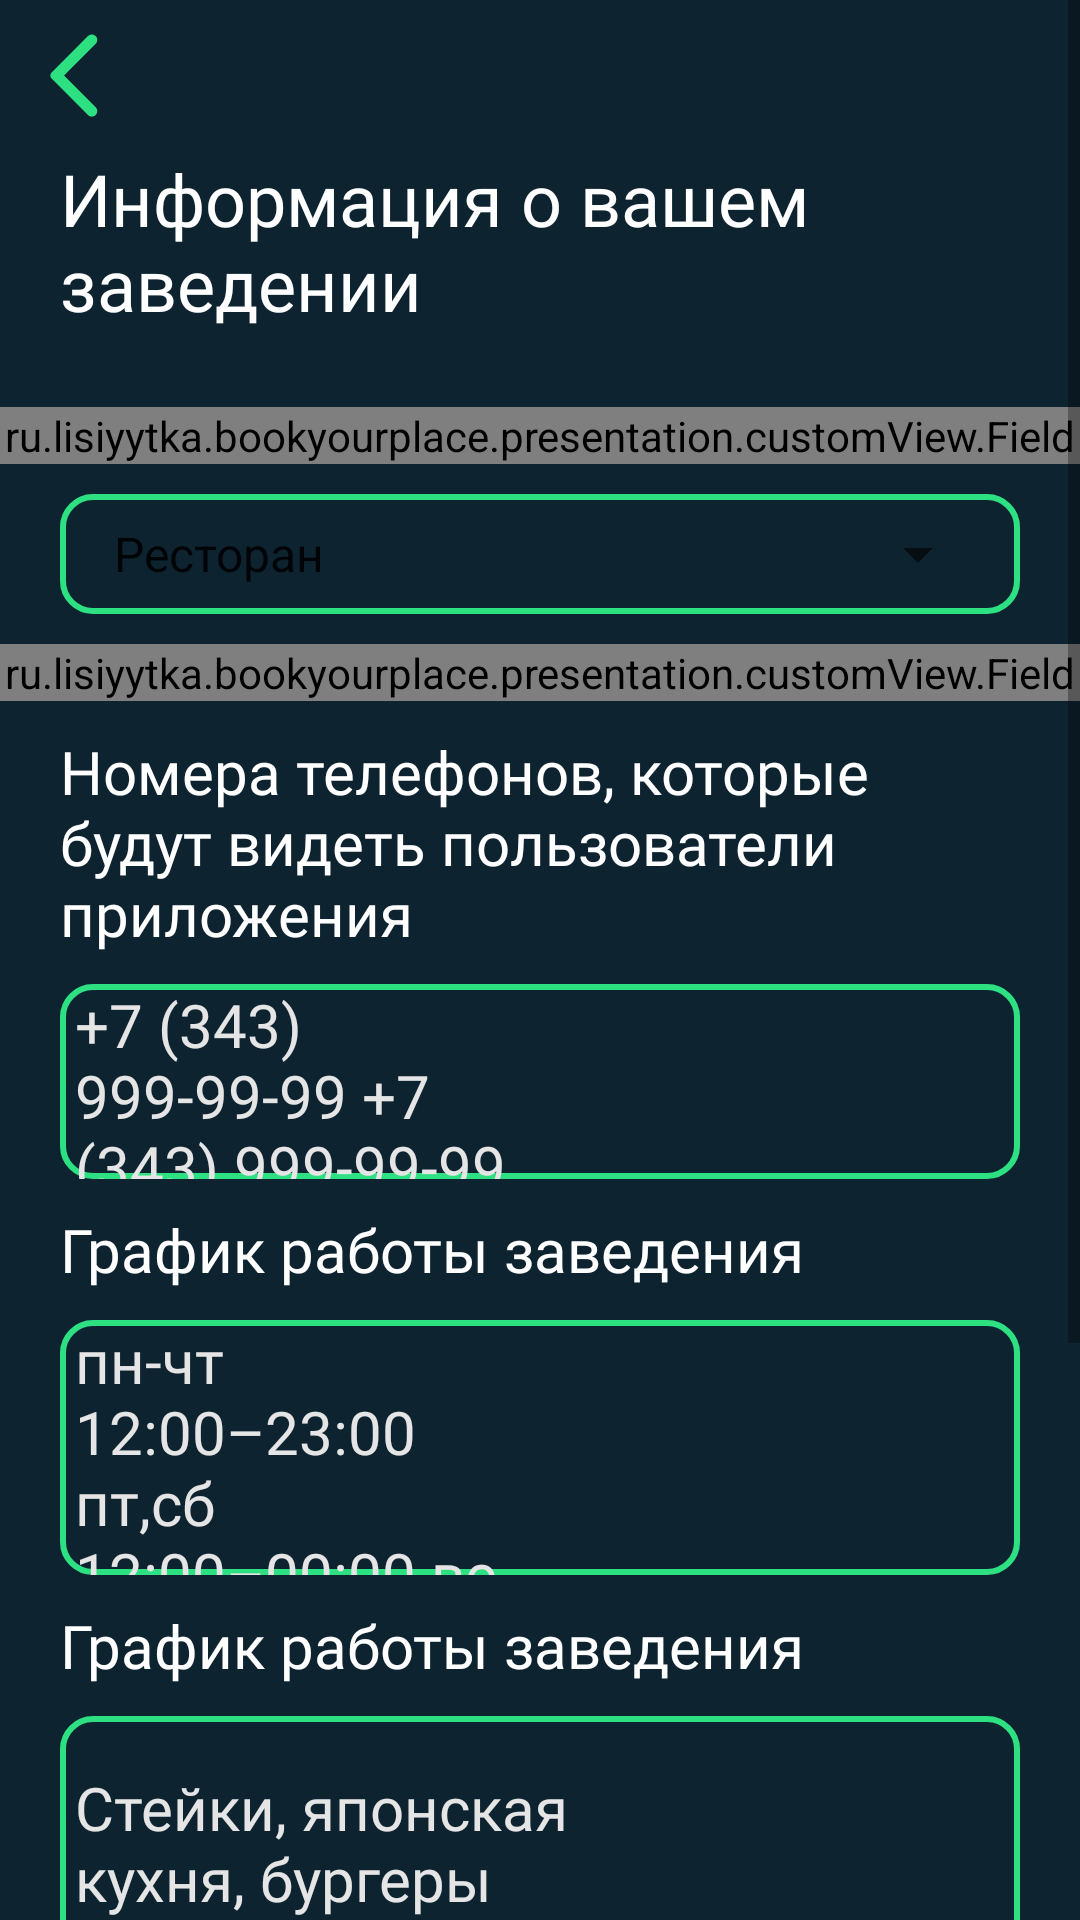

Where to tap for icons on this 1080px x 1920px app screen, as (x=x, y=y):
arrow back: (x=74, y=75)
